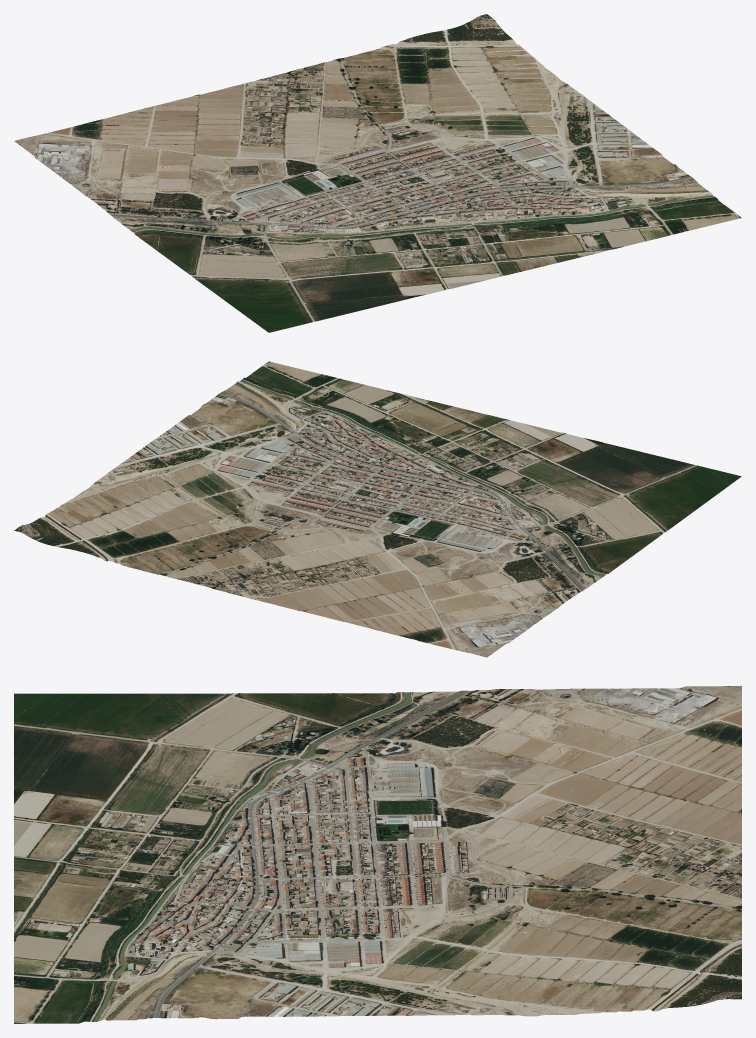
File: cabanillas.glb
3 renders of one model, top to bottom at view 1: azimuth 30°, elevation 25°; view 2: azimuth 150°, elevation 25°; view 3: azimuth 270°, elevation 25°, orthographic. The views are drawn at different scales.
Parts seen in each view (by area): view 1: terreno_0_3, terreno_2_1, terreno_3_2, terreno_3_3, terreno_1_0, terreno_0_2, terreno_2_0, terreno_0_1, terreno_1_3, terreno_0_0, terreno_1_2, terreno_2_3 (+4 smaller); view 2: terreno_1_1, terreno_3_0, terreno_3_1, terreno_2_2, terreno_2_3, terreno_1_0, terreno_0_2, terreno_2_0, terreno_0_1, terreno_0_0, terreno_1_2, terreno_1_3 (+4 smaller); view 3: terreno_3_0, terreno_2_2, terreno_3_1, terreno_3_3, terreno_1_2, terreno_1_3, terreno_0_0, terreno_2_3, terreno_0_1, terreno_1_1, terreno_2_0, terreno_0_2 (+4 smaller).
Boxes of the visible parts, x1,y1,x2,y2 form: terreno_0_3: [369, 14, 550, 100]; terreno_2_1: [260, 177, 440, 257]; terreno_3_2: [442, 195, 623, 275]; terreno_3_3: [560, 167, 741, 246]; terreno_1_0: [78, 160, 259, 239]; terreno_0_2: [251, 51, 431, 129]; terreno_2_0: [142, 207, 322, 286]; terreno_0_1: [132, 82, 313, 159]; terreno_1_3: [433, 72, 613, 148]; terreno_0_0: [14, 111, 195, 189]; terreno_1_2: [314, 100, 495, 177]; terreno_2_3: [496, 119, 677, 195]; terreno_1_1: [314, 507, 495, 583]; terreno_3_0: [560, 447, 741, 522]; terreno_3_1: [442, 419, 623, 493]; terreno_2_2: [260, 432, 441, 507]; terreno_2_3: [142, 403, 322, 479]; terreno_1_0: [433, 537, 613, 612]; terreno_0_2: [132, 523, 313, 598]; terreno_2_0: [496, 494, 677, 569]; terreno_0_1: [251, 553, 431, 627]; terreno_0_0: [369, 583, 550, 657]; terreno_1_2: [196, 479, 377, 553]; terreno_1_3: [78, 449, 259, 523]; terreno_3_0: [14, 693, 195, 776]; terreno_2_2: [196, 852, 377, 936]; terreno_3_1: [14, 776, 195, 859]; terreno_3_3: [14, 934, 195, 1023]; terreno_1_2: [378, 850, 559, 935]; terreno_1_3: [378, 932, 559, 1016]; terreno_0_0: [560, 686, 741, 770]; terreno_2_3: [196, 934, 377, 1019]; terreno_0_1: [560, 767, 741, 850]; terreno_1_1: [378, 770, 559, 852]; terreno_2_0: [196, 693, 377, 776]; terreno_0_2: [560, 849, 741, 932].
Bounding box in the file's own units: 1500 × 54.15 × 1400.
16 materials, 16 textured.
